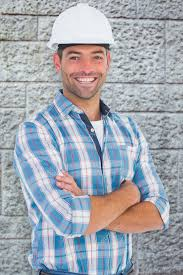Person_wearing_helmet: (46, 1, 126, 67)
